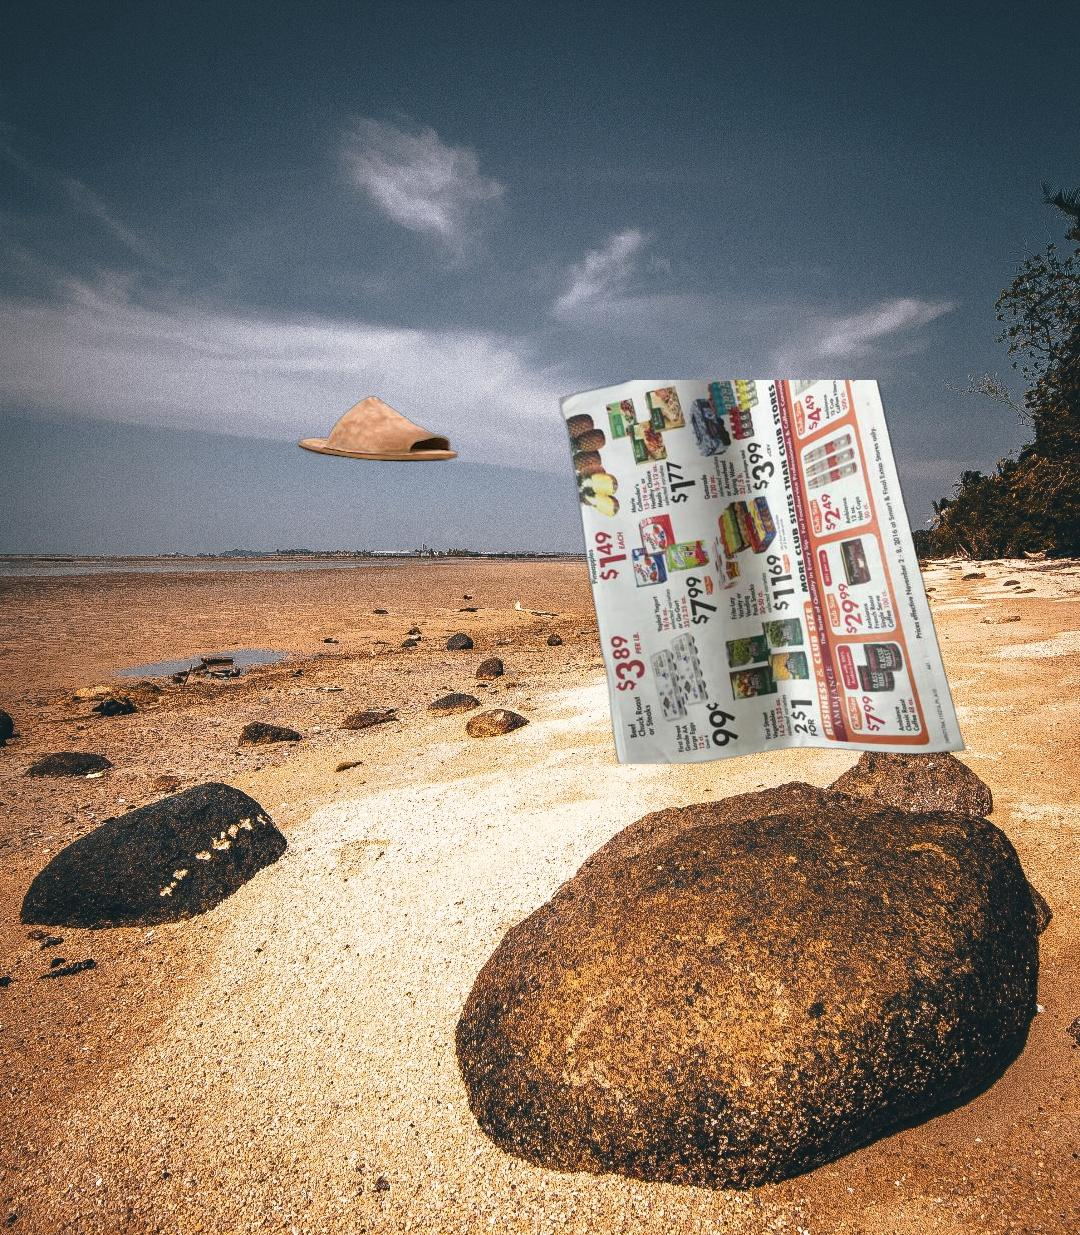paper: (556, 380, 969, 765)
shoes: (295, 393, 461, 465)
